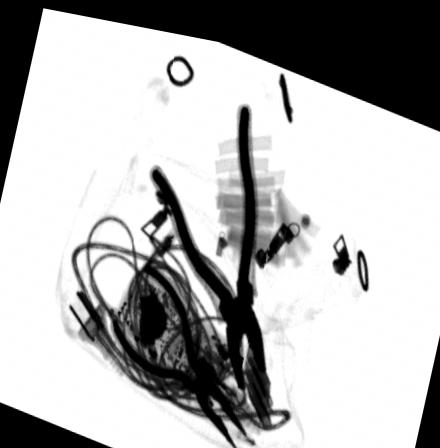Pliers: (148, 92, 267, 382), (110, 255, 248, 442)
